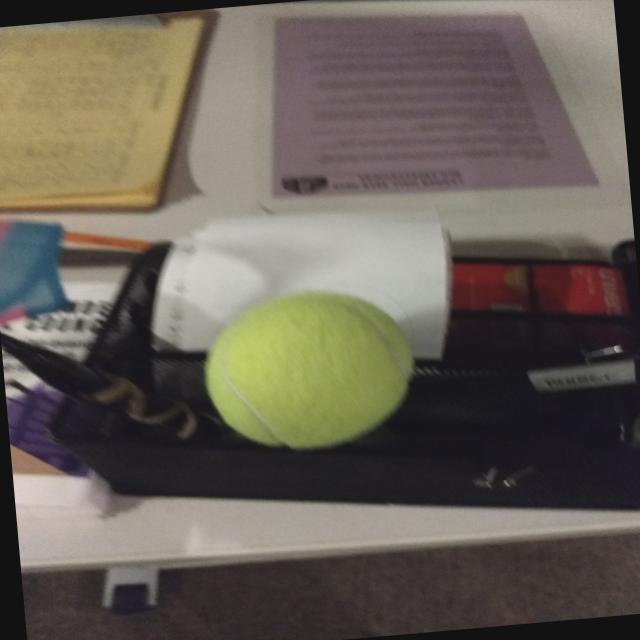tennis-ball: (195, 280, 432, 460)
